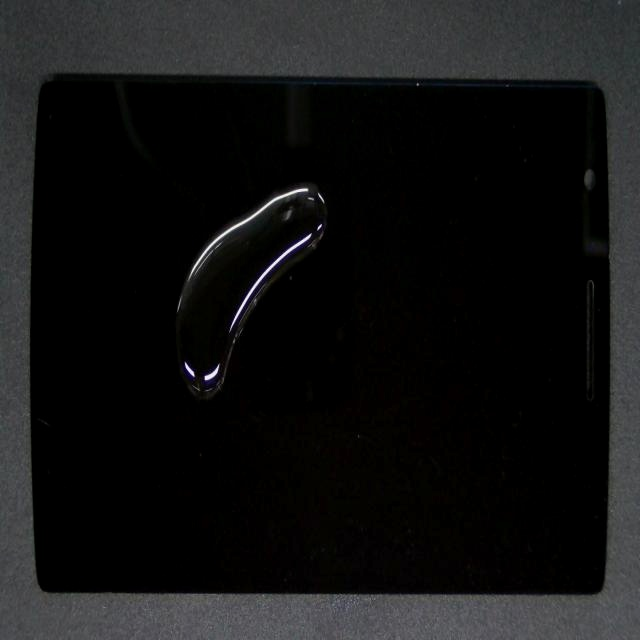oil: (102, 181, 431, 404)
